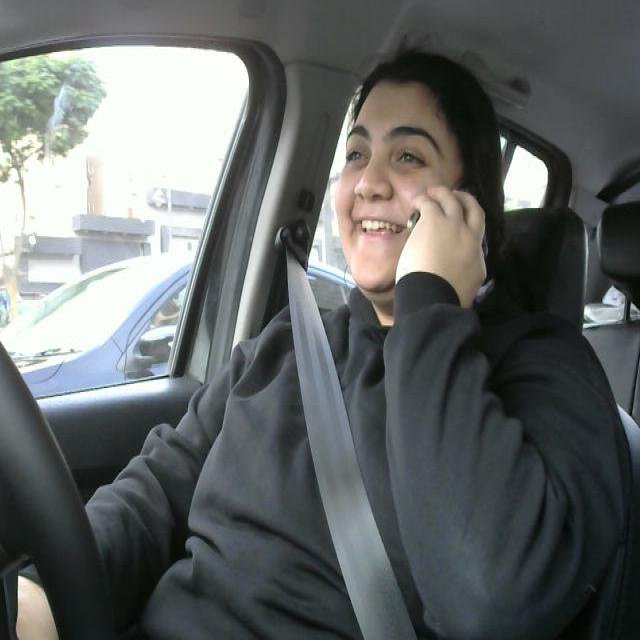mobile use: (405, 177, 492, 287)
